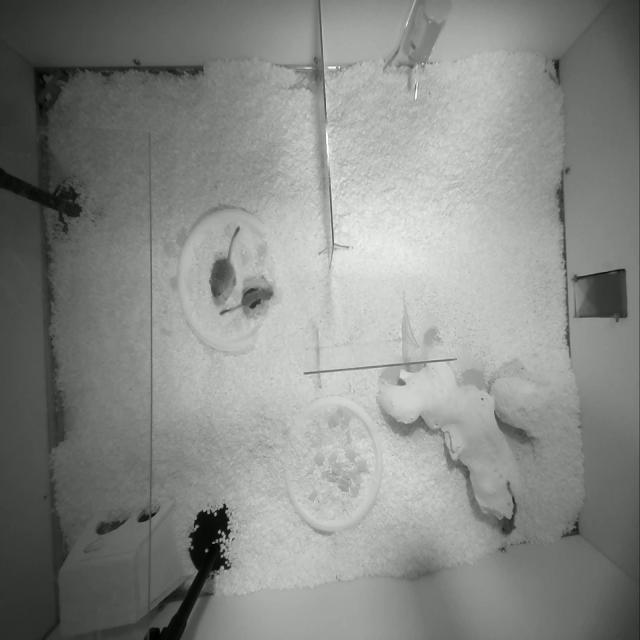pup_fluffy: (209, 226, 240, 300)
pup_h_stripe: (500, 483, 517, 534)
pup_v_stripe: (219, 286, 273, 315)
